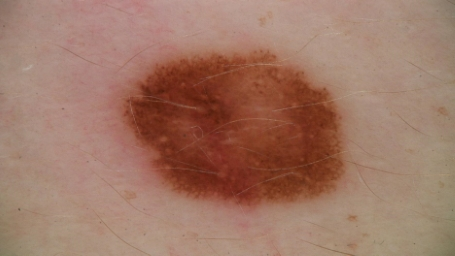nevus: (129, 50, 347, 203)
